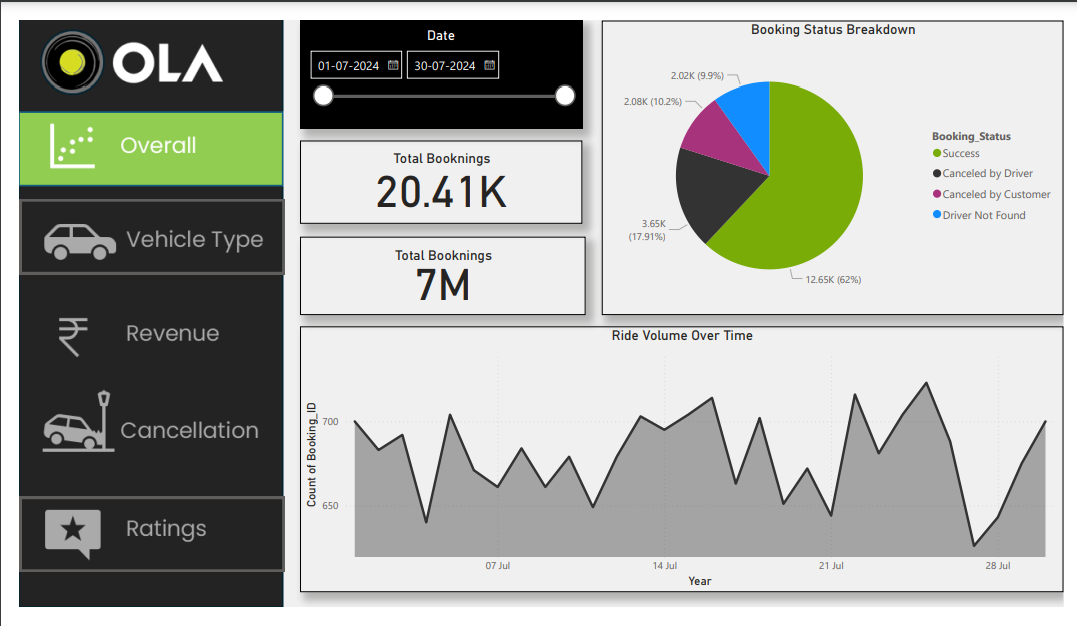

What the dashboard file says about the page in this screenshot:
{"tool":"powerbi","page":{"name":"Overall","canvas":[1280,720],"ordinal":0},"visuals":[{"type":"actionButton","box":[0,218.3,325,91.7],"z":0},{"type":"actionButton","box":[0,325,325,96.7],"z":1000},{"type":"actionButton","box":[0,445,325,91.7],"z":2000},{"type":"actionButton","box":[0,583.3,325,91.7],"z":3000},{"type":"stackedAreaChart","title":"Ride Volume Over Time","fields":{"Y":["CountNonNull(July.Booking_ID)"],"Category":["July.Date.Variation.Date Hierarchy.Year","July.Date.Variation.Date Hierarchy.Quarter","July.Date.Variation.Date Hierarchy.Month","July.Date.Variation.Date Hierarchy.Day"]},"box":[344,374,936,326],"z":4000},{"type":"pieChart","title":"Booking Status Breakdown","fields":{"Category":["July.Booking_Status"],"Y":["CountNonNull(July.Booking_Status)"]},"box":[714,0,566,360],"z":5000},{"type":"slicer","title":"Date","fields":{"Values":["July.Date"]},"box":[344,0,346,132],"z":6000},{"type":"card","title":"Total Booknings","fields":{"Values":["CountNonNull(July.Booking_ID)"]},"box":[344,146,346,102],"z":7000},{"type":"card","title":"Total Booknings","fields":{"Values":["Sum(July.Booking_Value)"]},"box":[344,264,350,96],"z":8000}]}

Visuals, with their boxes on the page's 1280x720 design canvas (x1, y1, x2, y2). These are canvas units, not pixel positions in the 1077x626 screenshot, which may show the page scaled, cropped or inside an application window:
actionButton: [0,218,325,310]
actionButton: [0,325,325,422]
actionButton: [0,445,325,537]
actionButton: [0,583,325,675]
"Ride Volume Over Time" stackedAreaChart: [344,374,1280,700]
"Booking Status Breakdown" pieChart: [714,0,1280,360]
"Date" slicer: [344,0,690,132]
"Total Booknings" card: [344,146,690,248]
"Total Booknings" card: [344,264,694,360]
